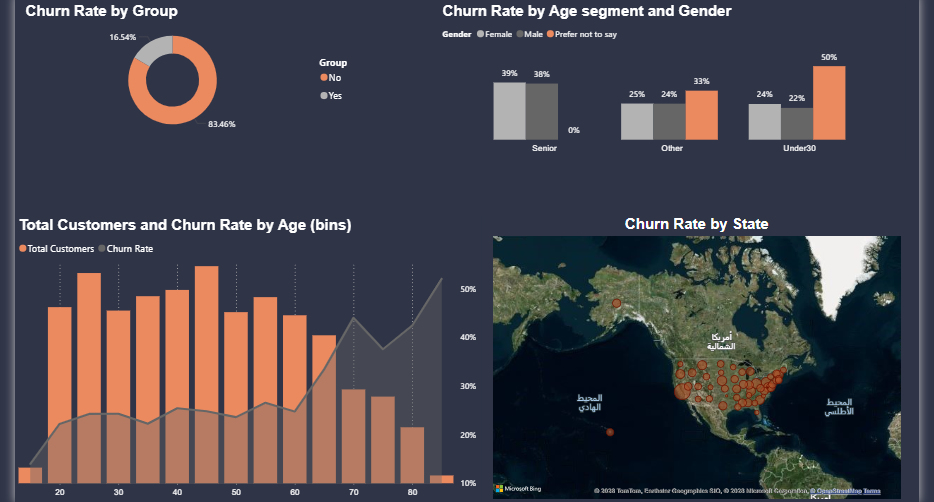

The page's visual inventory and layout, read from the dashboard file:
{"tool":"powerbi","page":{"name":"Customer Demographics","canvas":[1280,720],"ordinal":1},"visuals":[{"type":"lineClusteredColumnComboChart","fields":{"Category":["Databel - Data.Age (bins)"],"Y2":["dashboard measures.Churn Rate"],"Y":["dashboard measures.Total Customers"]},"box":[0,314.3,661.4,405.7],"z":0},{"type":"clusteredColumnChart","fields":{"Category":["Databel - Data.Age segment"],"Y":["dashboard measures.Churn Rate"],"Series":["Databel - Data.Gender"]},"box":[600.5,11.5,661,221.8],"z":1000},{"type":"donutChart","fields":{"Category":["Databel - Data.Group"],"Y":["dashboard measures.Churn Rate"]},"box":[10.1,11.5,486.7,194.4],"z":2000},{"type":"map","fields":{"Category":["Databel - Data.State"],"Size":["dashboard measures.Churn Rate"]},"box":[672.5,313.9,589,406.1],"z":3000}]}

Visuals, with their boxes on the page's 1280x720 design canvas (x1, y1, x2, y2). These are canvas units, not pixel positions in the 934x502 screenshot, which may show the page scaled, cropped or inside an application window:
lineClusteredColumnComboChart - Databel - Data.Age (bins) x dashboard measures.Churn Rate: box(0, 314, 661, 720)
clusteredColumnChart - Databel - Data.Age segment x dashboard measures.Churn Rate: box(600, 12, 1262, 233)
donutChart - Databel - Data.Group x dashboard measures.Churn Rate: box(10, 12, 497, 206)
map - Databel - Data.State x dashboard measures.Churn Rate: box(672, 314, 1262, 720)
